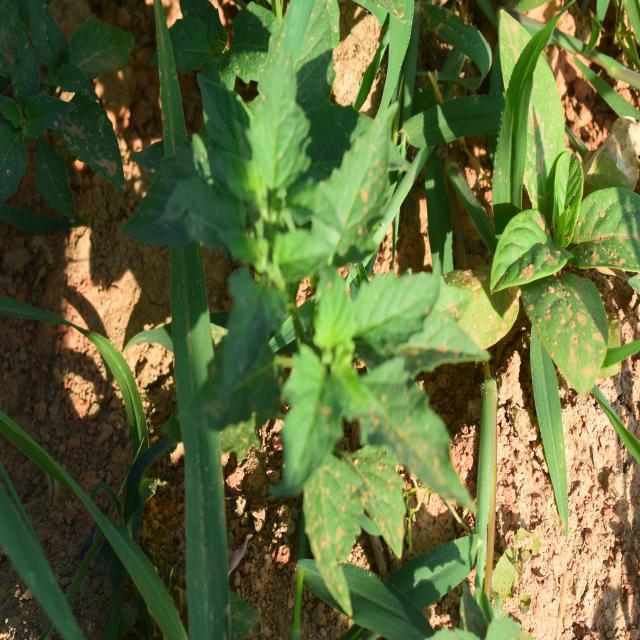Black_nightshade: (268, 246, 478, 534)
